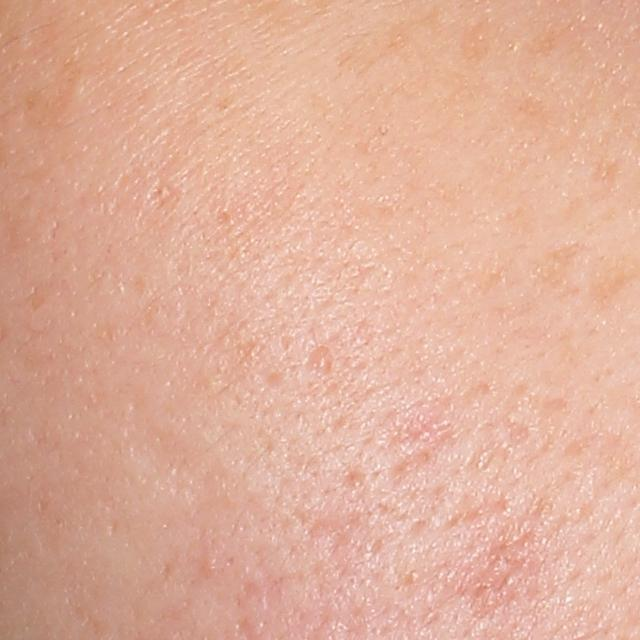atrophic_scar: (131, 425, 219, 508), (301, 339, 340, 390), (340, 468, 367, 492)
comedo: (60, 72, 88, 105)
melasma: (458, 12, 511, 69)
